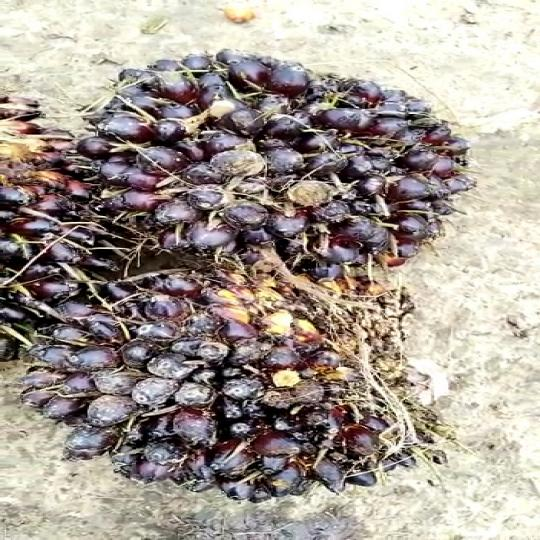mentah: (64, 258, 458, 502), (72, 48, 477, 282)
